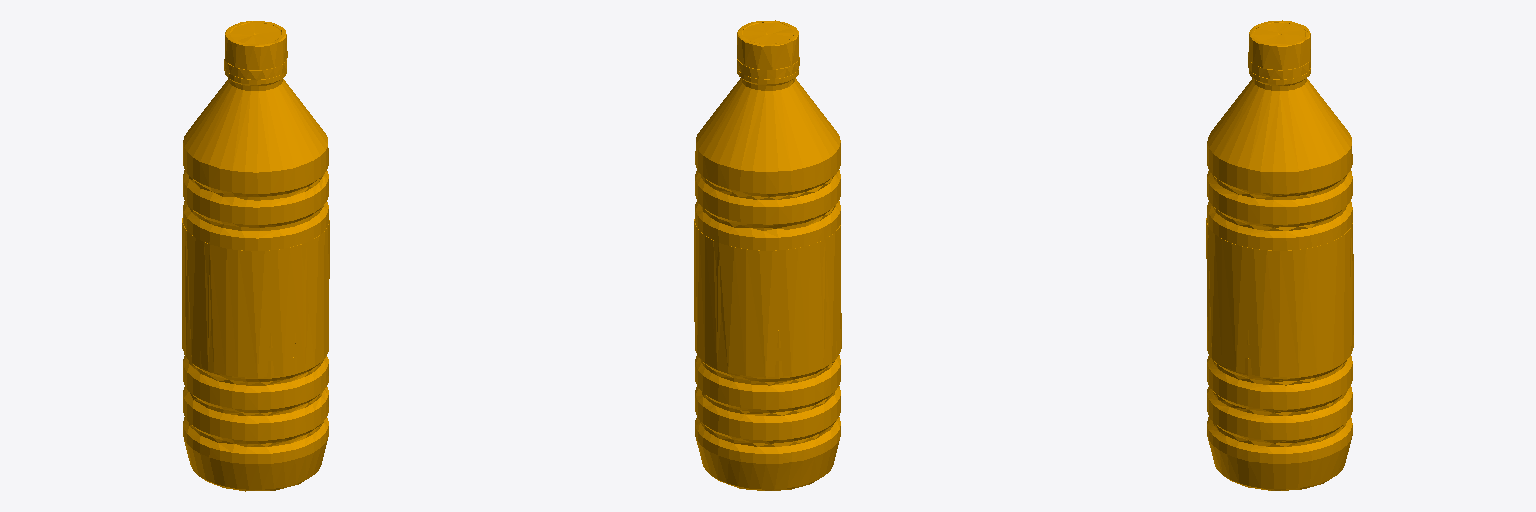
The robot description file, URDF, robot "bottle_model":
<robot name="bottle_model">
  <link name="bottle">
    <inertial>
      <mass value="0.1" />
      <!-- center of mass (com) is defined w.r.t. link local coordinate system -->
      <origin xyz="0 0 0" /> 
      <inertia  ixx="0.1" ixy="0.0"  ixz="0.0"  iyy="0.1"  iyz="0.0"  izz="0.1" />
    </inertial>
    <visual>
      <!-- visual origin is defined w.r.t. link local coordinate system -->
      <origin xyz="0 0 0" rpy="0 0 0" />
      <geometry>
        <mesh filename="package://object_detection/objects/bottle/bottle.stl"/>
      </geometry>
    </visual>
    <collision>
      <!-- collision origin is defined w.r.t. link local coordinate system -->
      <origin xyz="0 0 0" rpy="0 0 0" />
      <geometry>
        <mesh filename="package://object_detection/objects/bottle/bottle.stl"/>
      </geometry>
    </collision>
  </link>
  <gazebo reference="bottle">
    <turnGravityOff>false</turnGravityOff>
  </gazebo>
</robot>

--- Render facts (derived) ---
Views: 3 orthographic renders of the robot side by side, from view 1: azimuth 30°, elevation 25°; view 2: azimuth 150°, elevation 25°; view 3: azimuth 270°, elevation 25°.
Model bottle_model with 1 links and 0 joints (none), rooted at bottle, posed all joints at 0.
Visible links, largest first — view 1: bottle; view 2: bottle; view 3: bottle.
Link boxes in pixels (<box>): bottle: <box>182,21,329,491</box>; bottle: <box>694,20,841,490</box>; bottle: <box>1206,20,1353,490</box>.
Bounding box of the posed robot: 0.0803 × 0.0801 × 0.2601 m (x, y, z).
Meshes: 1 distinct files referenced, 1 mesh visuals loaded (1 binary STL).